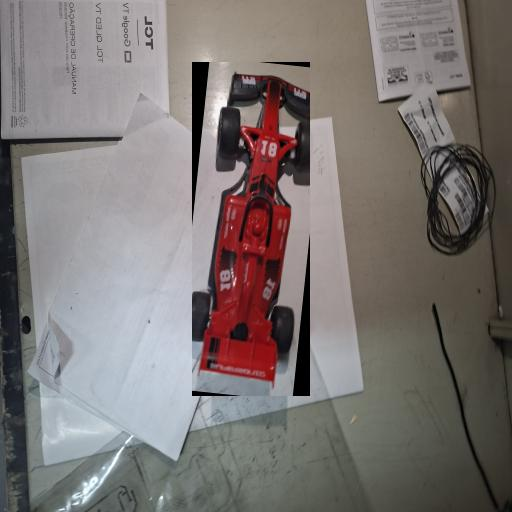carro: (192, 62, 310, 396)
